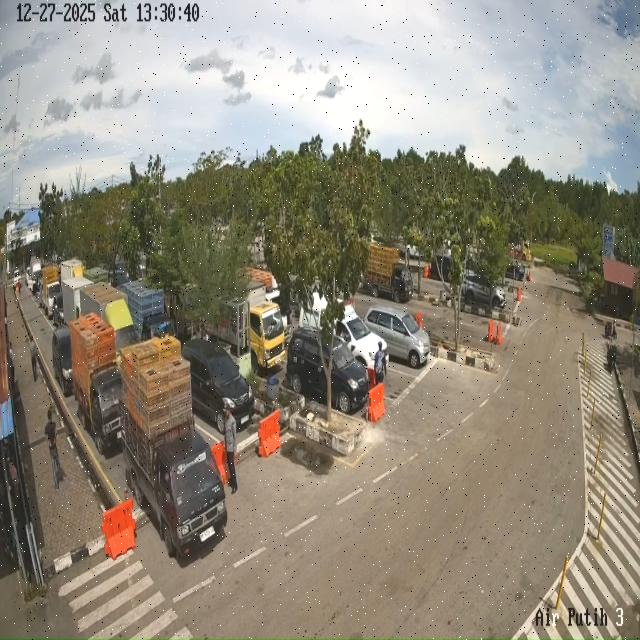Golongan IVA: (286, 328, 369, 413), (182, 338, 254, 434), (364, 305, 431, 369), (462, 271, 506, 309), (52, 326, 72, 396)
Golongan IVB: (120, 426, 228, 557), (68, 362, 122, 454), (363, 243, 413, 302)
Golongan VB: (207, 281, 286, 369)
